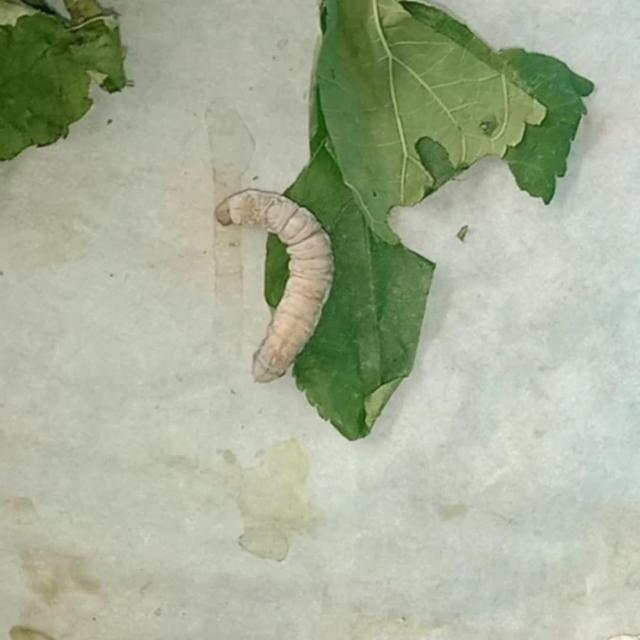Grasserie: (213, 173, 346, 389)
